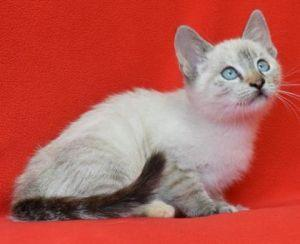siamese: (173, 6, 288, 127)
